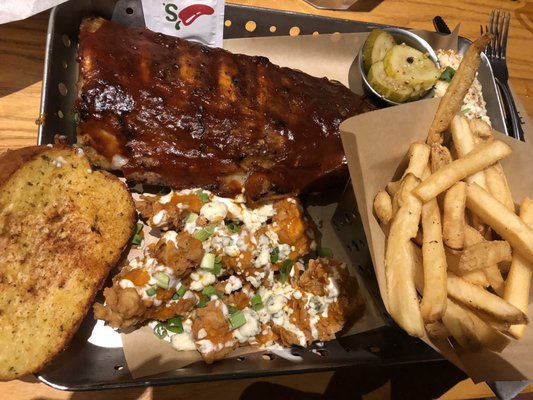burger: (484, 9, 524, 144)
soup: (0, 141, 137, 382)
sushi: (354, 26, 444, 107)
